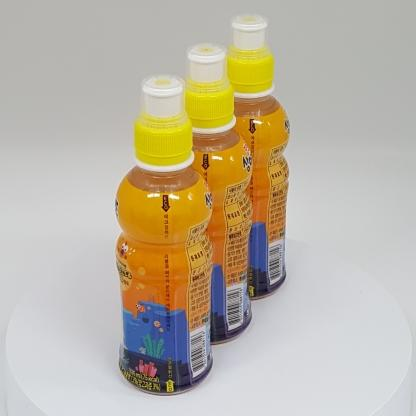----------235ML: (115, 73, 213, 396), (158, 42, 253, 345), (208, 13, 290, 300)
